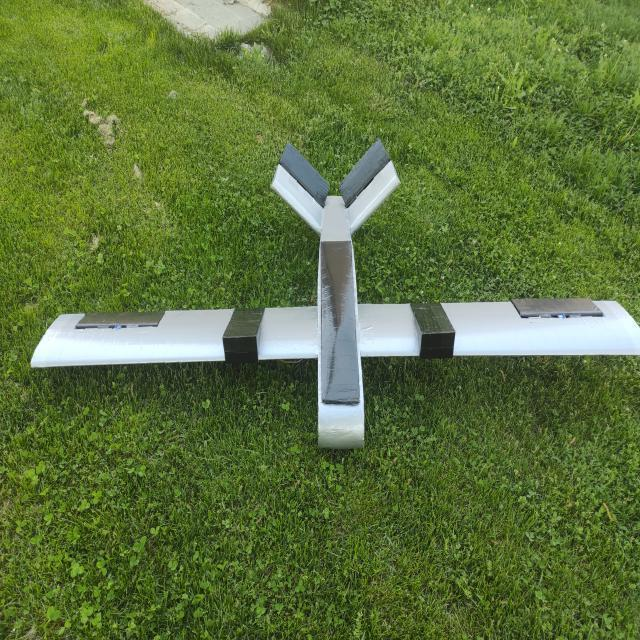iha: (18, 142, 634, 490)
